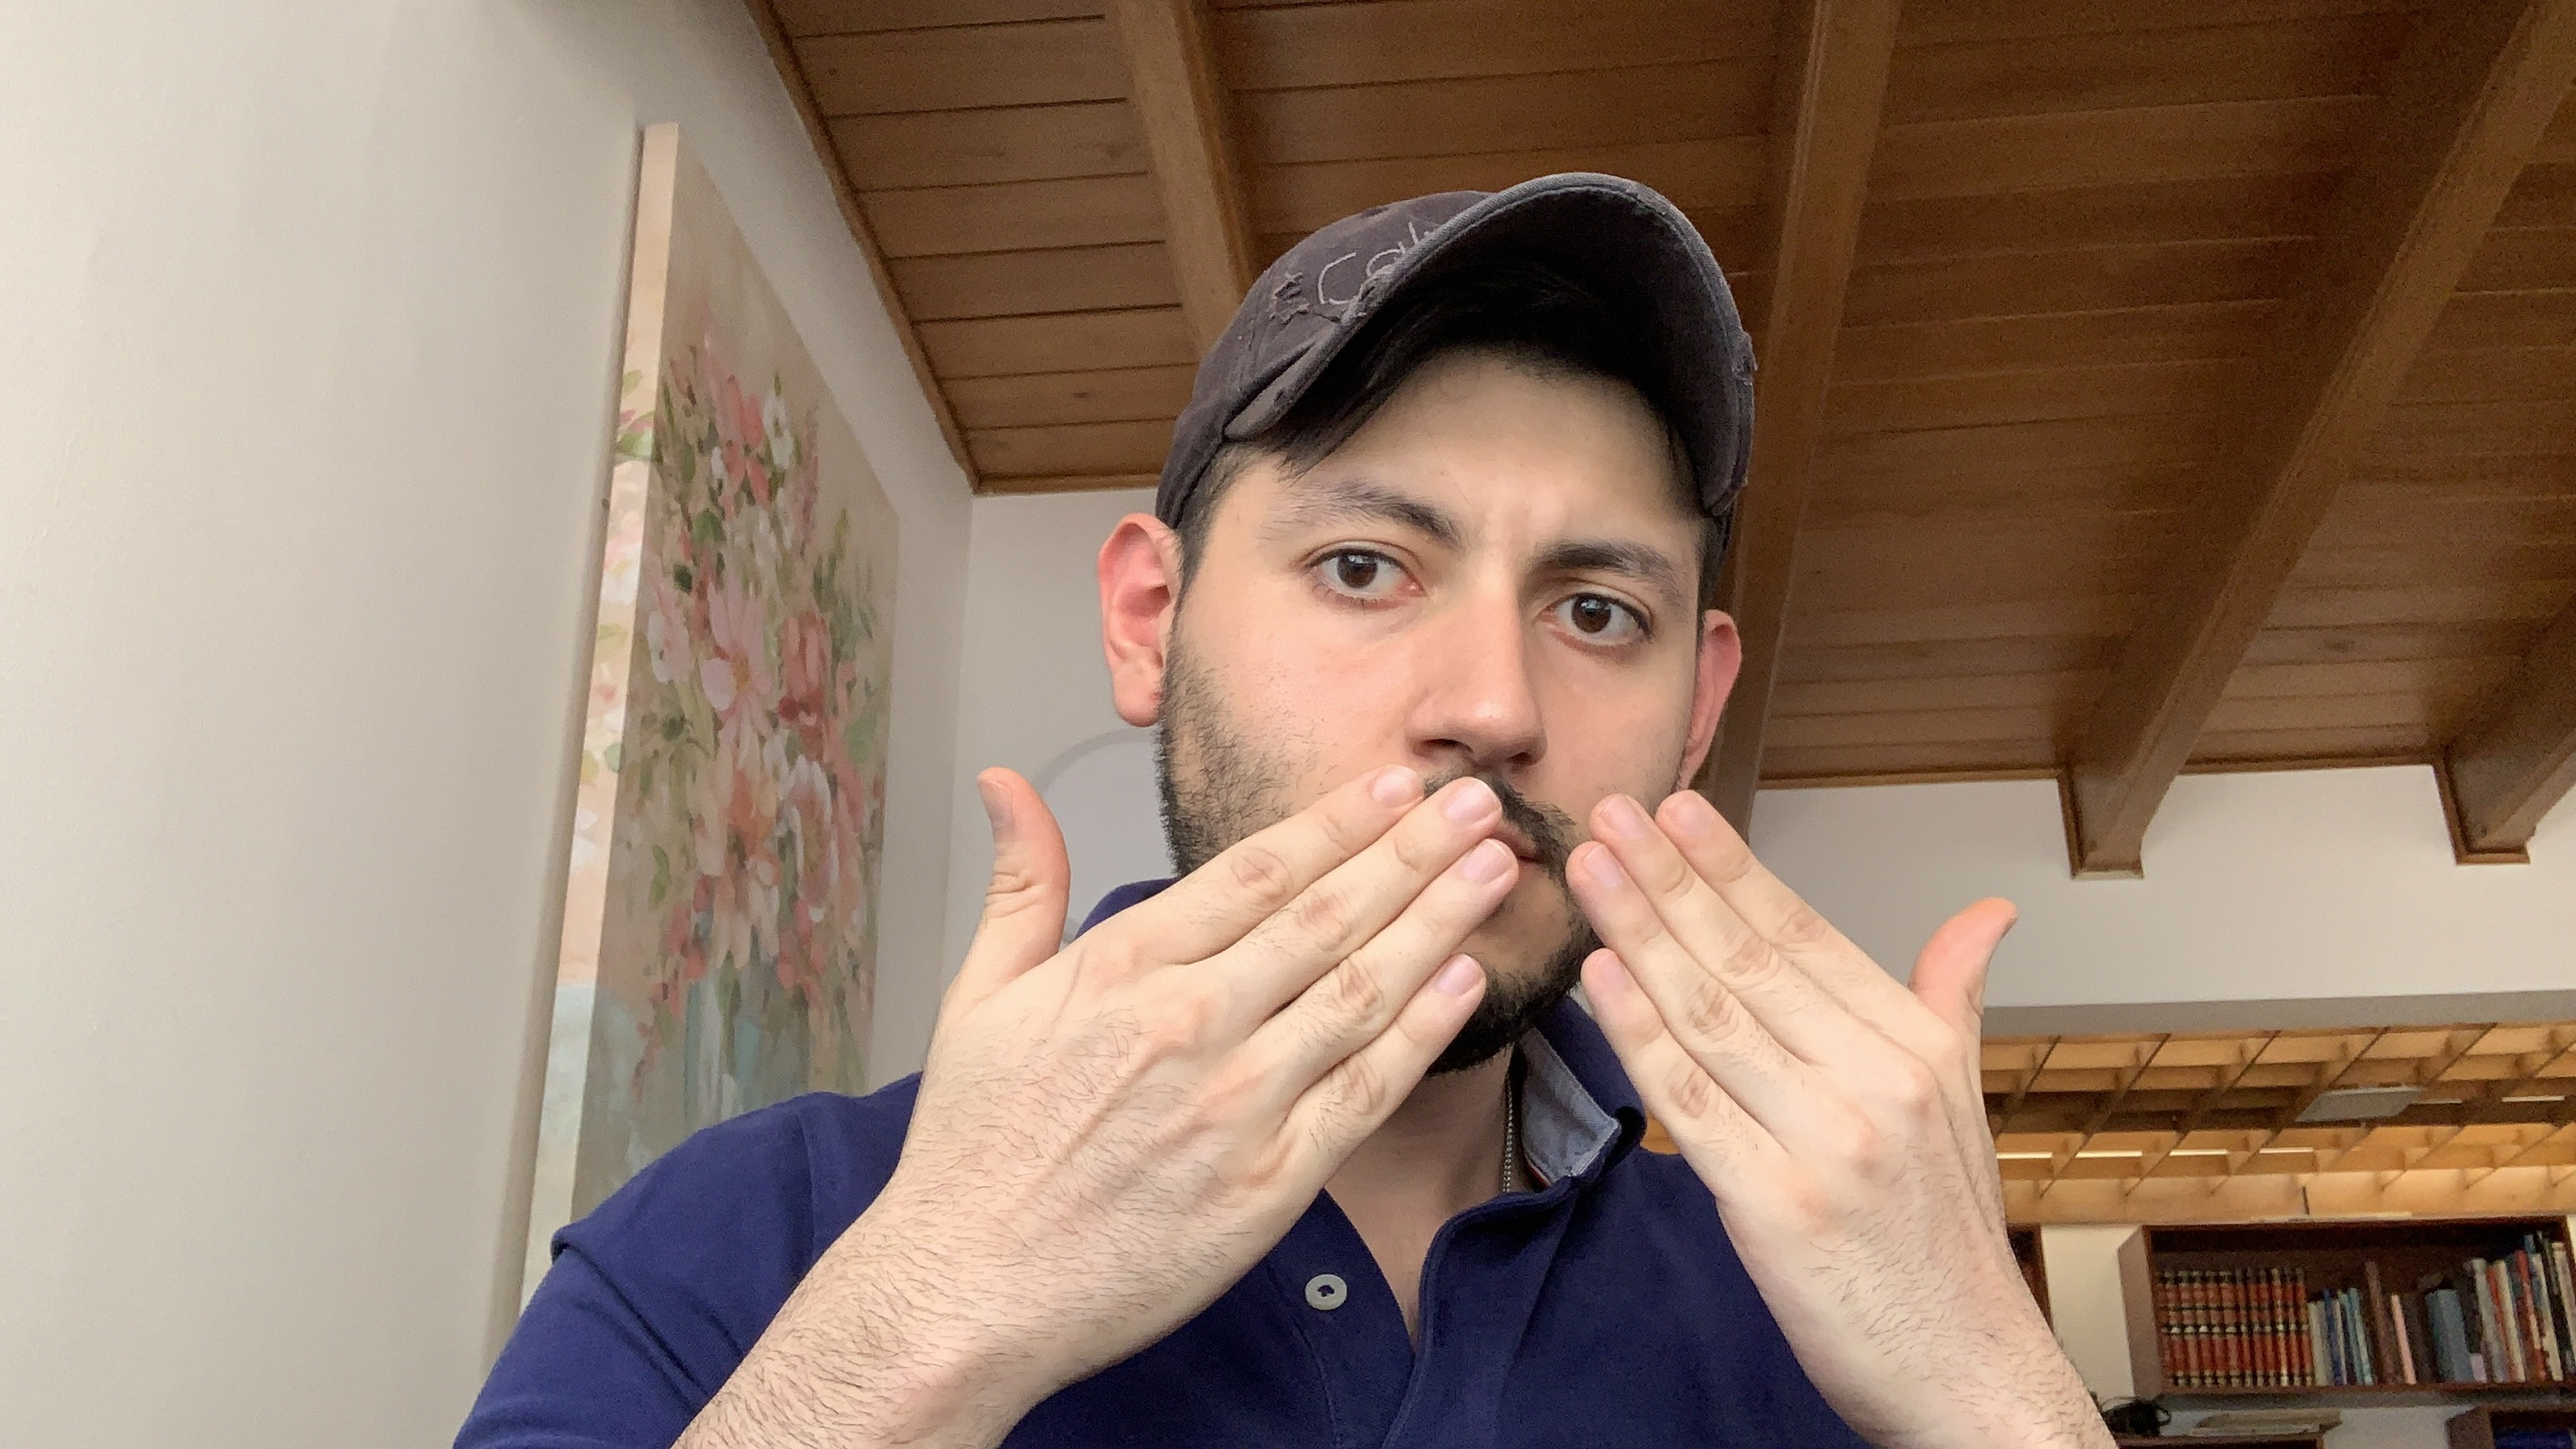Thank You: (872, 750, 2058, 1375)
